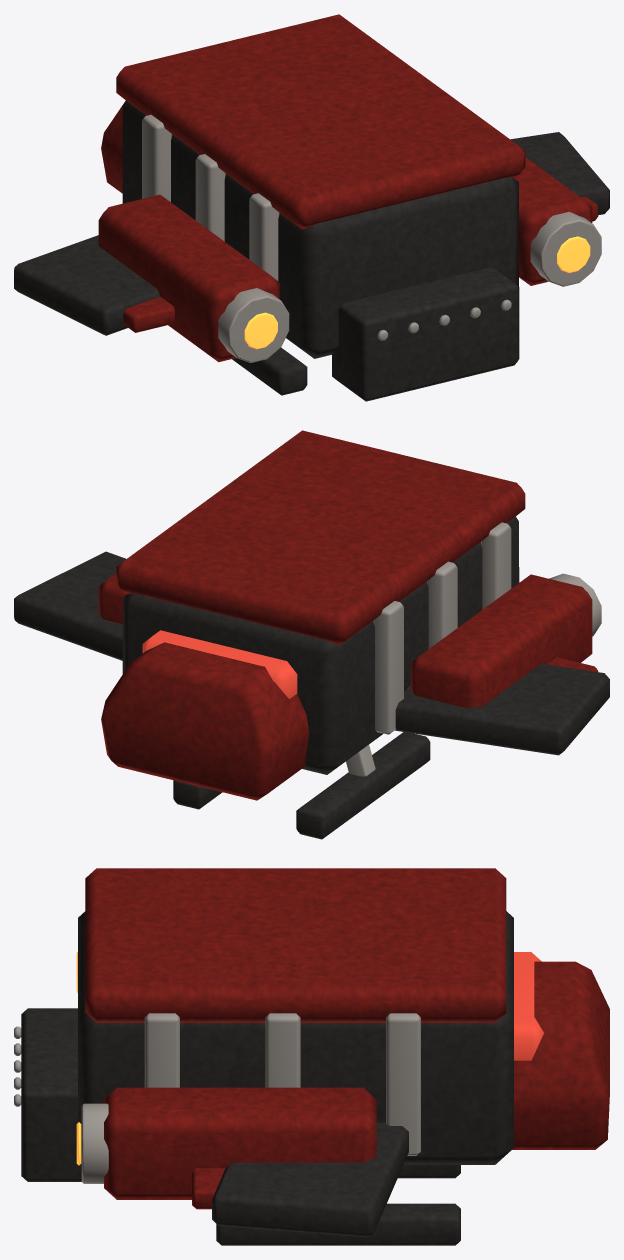
File: kharn_mule.gltf
3 views of the same model, one above another, from view 1: azimuth 30°, elevation 25°; view 2: azimuth 150°, elevation 25°; view 3: azimuth 270°, elevation 25° (orthographic). The views are drawn at different scales.
Parts seen in each view (by area): view 1: Root.002_Geometry, Ramp_0_Geometry, Flap_-1.001_Geometry; view 2: Root.002_Geometry; view 3: Root.002_Geometry, Ramp_0_Geometry, Flap_1.001_Geometry.
Boxes of the visible parts, x1=… form: Root.002_Geometry: x1=14, y1=14, x2=609, y2=395; Ramp_0_Geometry: x1=332, y1=267, x2=519, y2=401; Flap_-1.001_Geometry: x1=123, y1=296, x2=174, y2=332; Root.002_Geometry: x1=14, y1=430, x2=609, y2=839; Root.002_Geometry: x1=76, y1=868, x2=609, y2=1245; Ramp_0_Geometry: x1=14, y1=1008, x2=81, y2=1181; Flap_1.001_Geometry: x1=192, y1=1168, x2=225, y2=1209.
Size of the model in its own units: 3.85 by 1.66 by 3.21.
5 materials, 2 textured.
